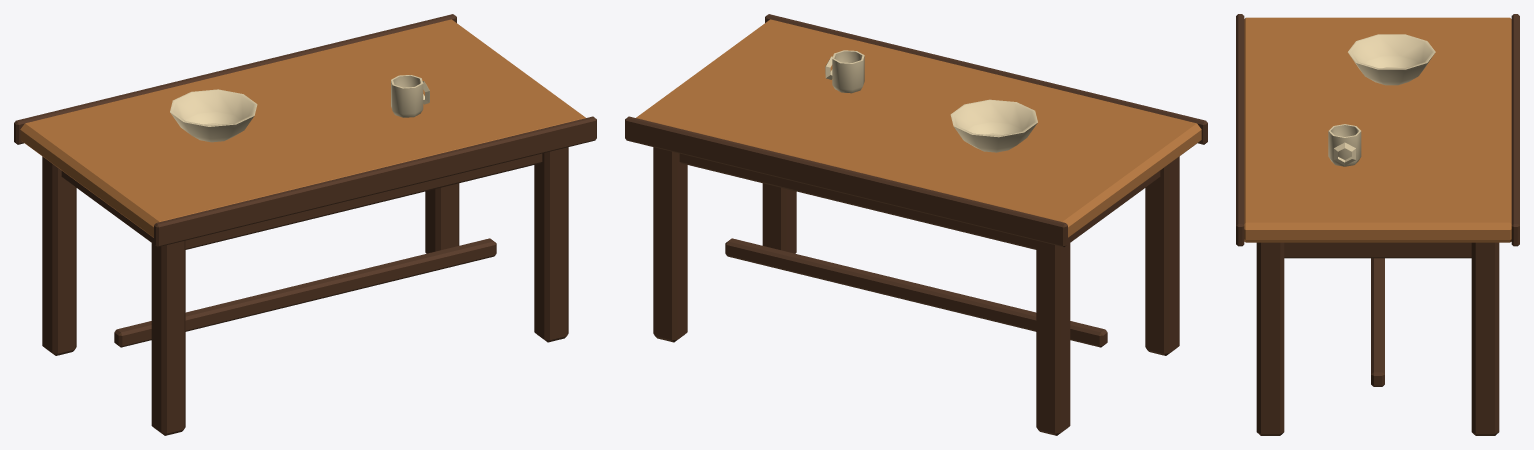
File: prop_table_dining_a.glb
3 views of the same model, side by side, from view 1: azimuth 30°, elevation 25°; view 2: azimuth 150°, elevation 25°; view 3: azimuth 270°, elevation 25° (orthographic).
Visible parts, largest first — view 1: tabletop_main, table_apron_x_neg, table_ceramic_bowl; view 2: tabletop_main, table_apron_x_neg, table_ceramic_bowl; view 3: tabletop_main, table_apron_x_neg, table_ceramic_bowl.
Part boxes in pixels (left/top/right/bottom): tabletop_main: left=20, top=19, right=585, bottom=237; table_apron_x_neg: left=14, top=14, right=596, bottom=435; table_ceramic_bowl: left=170, top=75, right=429, bottom=142; tabletop_main: left=636, top=19, right=1201, bottom=237; table_apron_x_neg: left=625, top=14, right=1207, bottom=435; table_ceramic_bowl: left=825, top=50, right=1037, bottom=152; tabletop_main: left=1244, top=17, right=1511, bottom=242; table_apron_x_neg: left=1236, top=14, right=1519, bottom=435; table_ceramic_bowl: left=1328, top=34, right=1435, bottom=166.
Size of the model in its own units: 1.82 by 1 by 1.03.
